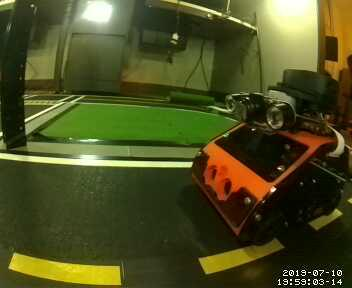pheeno: (191, 66, 349, 245)
